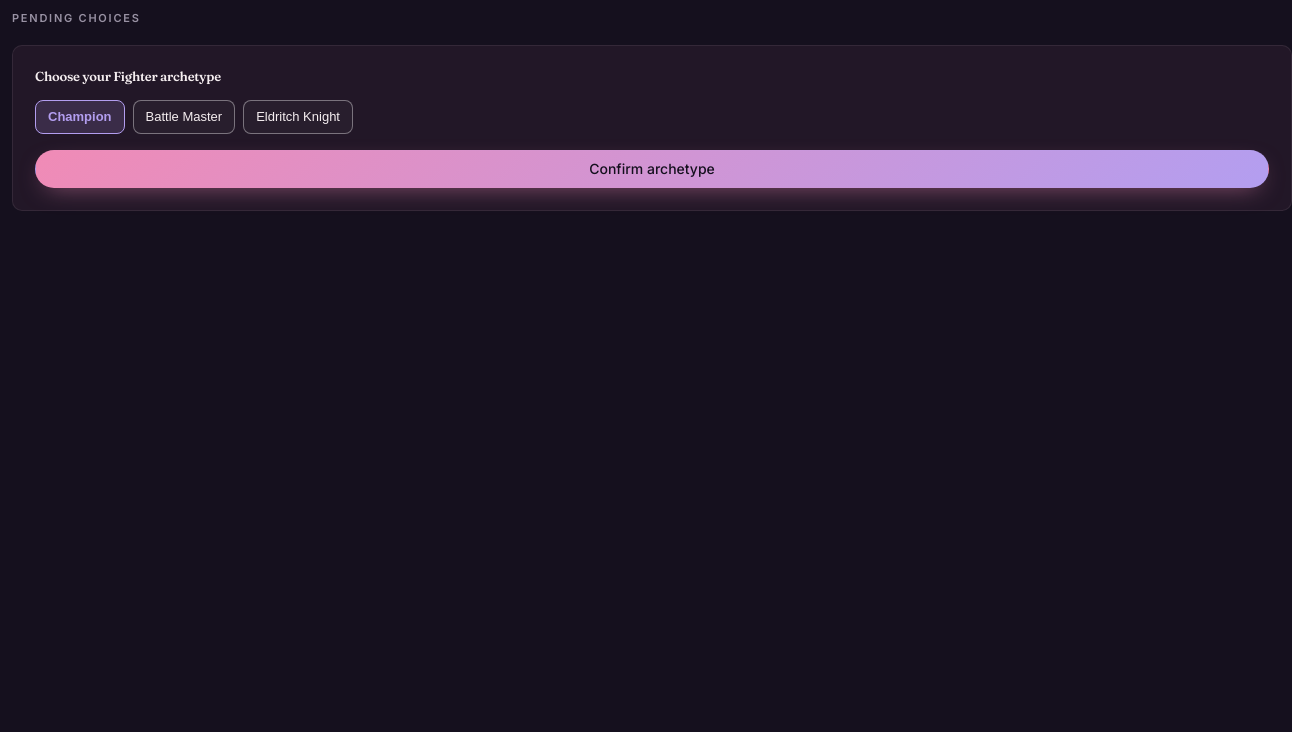
Test: LevelChoicePicker — subclass choice › resolves with the exact {subclass: slug} body and refetches the sheet
Click the radio button labelled "Battle Master".
click(184, 117)  # box 133,100 -> 235,134
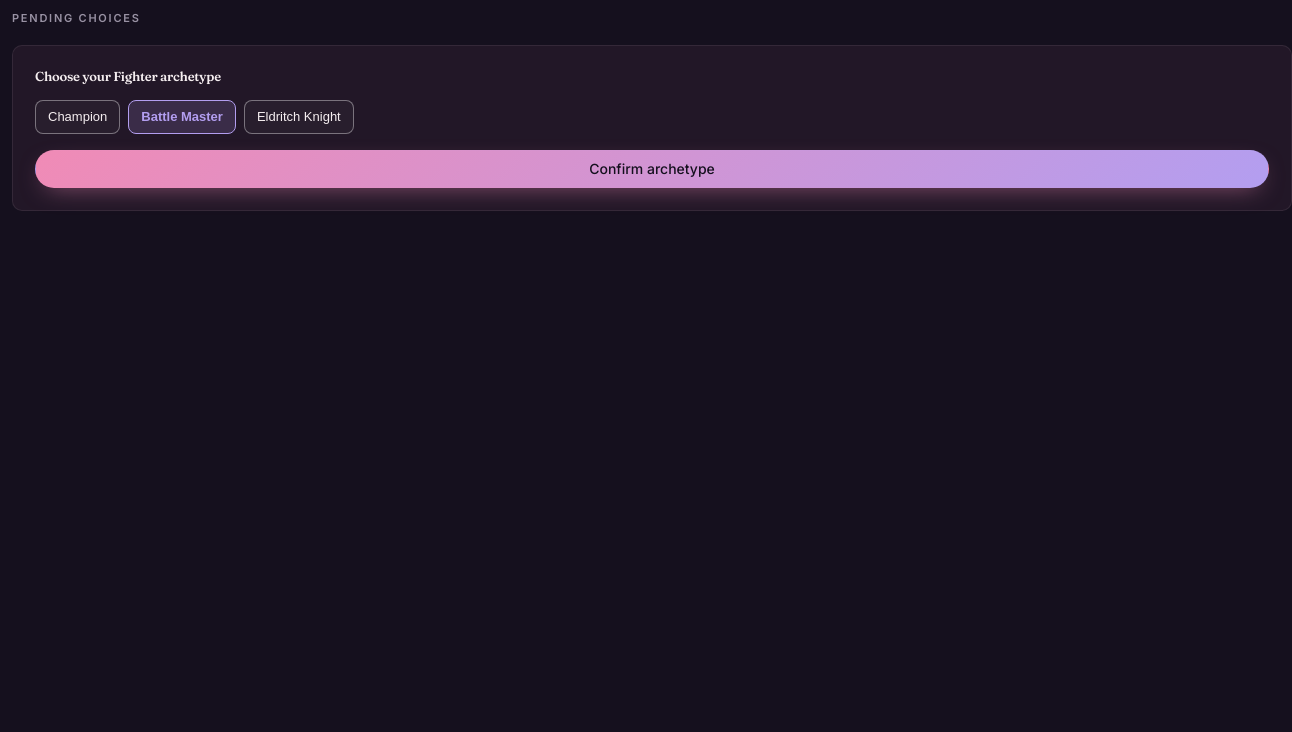
Click the button with aria-label "confirm archetype: battle master".
click(652, 169)  # box 35,150 -> 1269,188
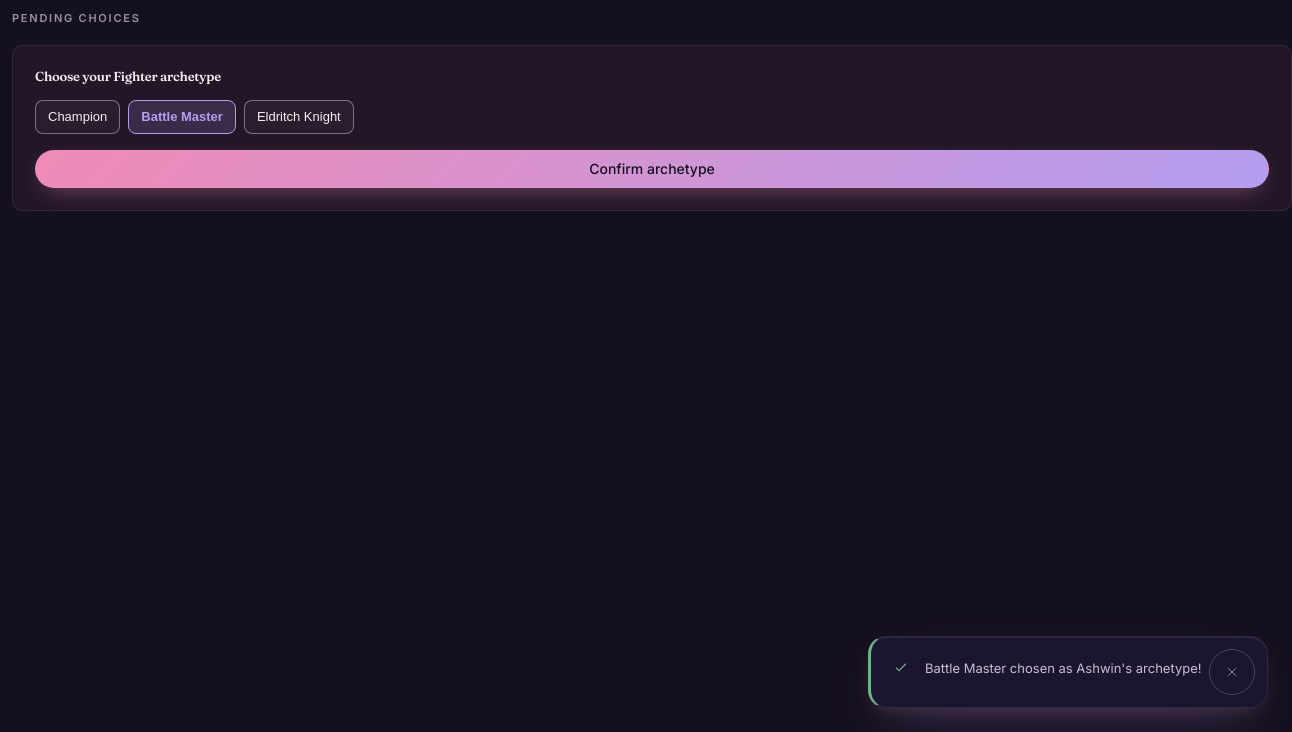
Check: the text "Battle Master chosen as Ashwin's archetype!" is shown, box 925,659 -> 1203,678
